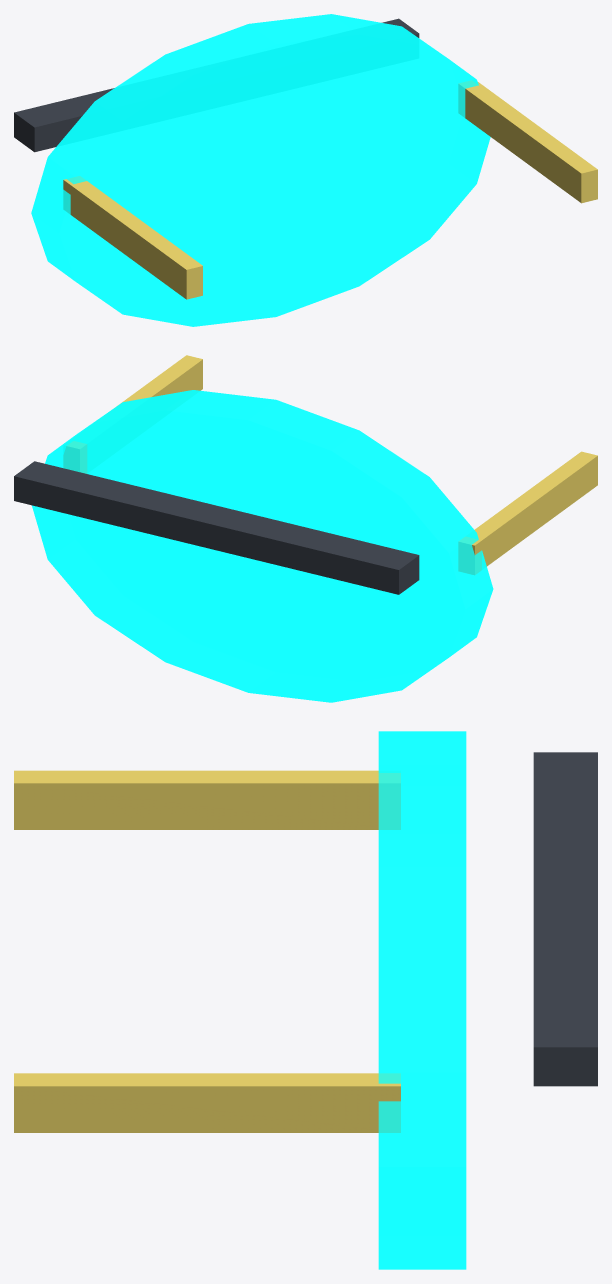
The model's file is cyber_visor.glb.
The picture shows the model from 3 angles, top to bottom: view 1: azimuth 30°, elevation 25°; view 2: azimuth 150°, elevation 25°; view 3: azimuth 270°, elevation 25°; orthographic projection. The views are drawn at different scales.
Visible parts, largest first — view 1: CyberVisor; view 2: CyberVisor; view 3: CyberVisor.
Boxes of the visible parts, bbox=[...] form: CyberVisor: bbox=[14, 14, 597, 326]; CyberVisor: bbox=[14, 355, 597, 702]; CyberVisor: bbox=[14, 731, 597, 1269].
Size of the model in its own units: 0.22 by 0.132 by 0.163.
